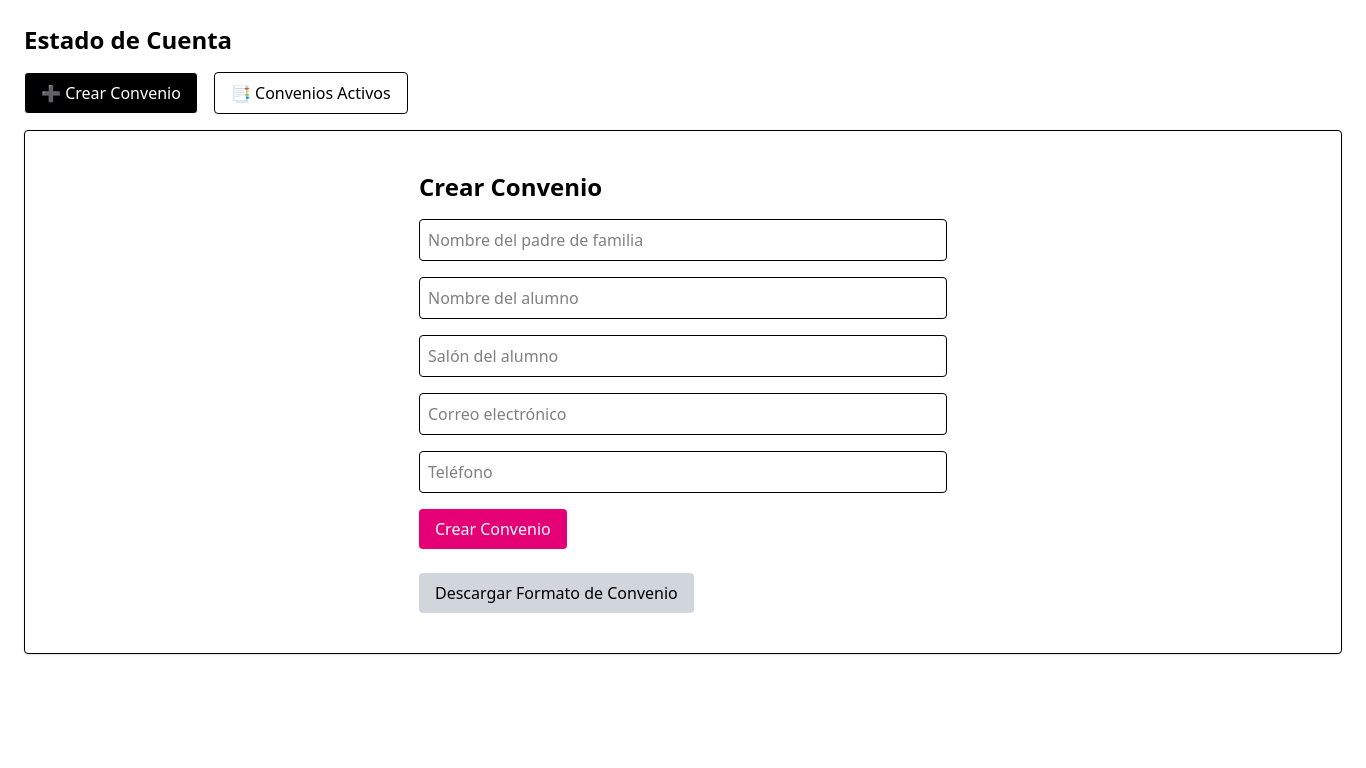
Test case: ConveniosPage › cambia de tab al hacer clic en "Convenios Activos"
The image size is (1366, 768).
Click the button "📑 Convenios Activos": (311, 93) x1=214 y1=72 x2=408 y2=114
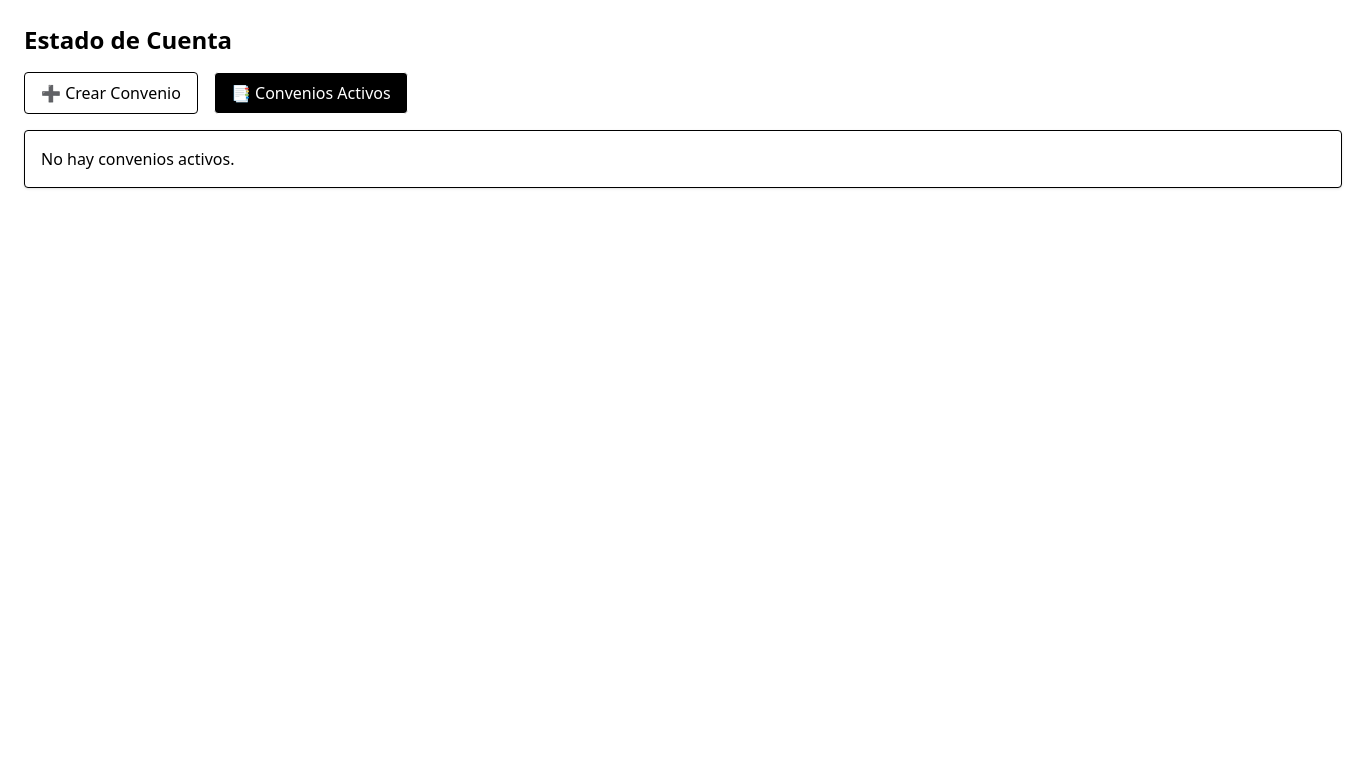
Expected: the text "Cargando convenios" is shown, x1=41 y1=148 x2=234 y2=170
